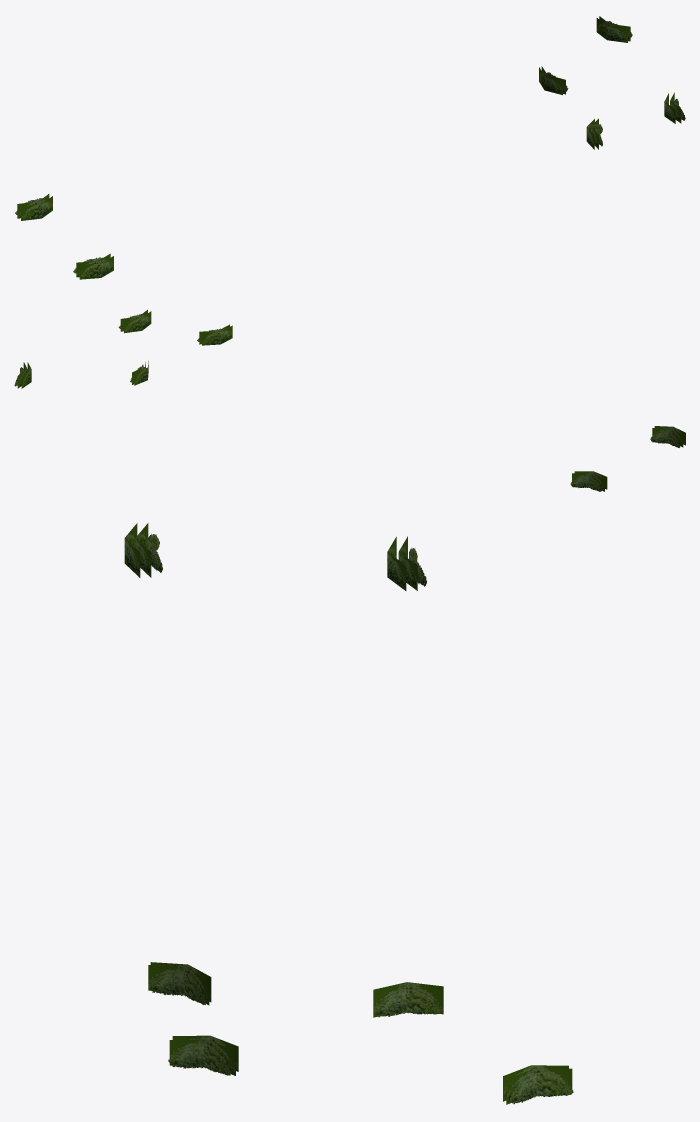
File: gBUSH.obj
3 renders of one model, top to bottom at view 1: azimuth 30°, elevation 25°; view 2: azimuth 150°, elevation 25°; view 3: azimuth 270°, elevation 25°, orthographic. The views are drawn at different scales.
Parts seen in each view (by area): view 1: bush04_2, bush05_2, bush012_2; view 2: bush09_2, bush016_2, bush05_0; view 3: bush017_0, bush016_0, bush012_0, bush09_0.
Part boxes in pixels (left/top/right/bottom): bush04_2: left=79, top=256, right=113, bottom=279; bush05_2: left=21, top=196, right=52, bottom=220; bush012_2: left=596, top=18, right=627, bottom=42; bush09_2: left=202, top=325, right=232, bottom=345; bush016_2: left=124, top=311, right=151, bottom=333; bush05_0: left=570, top=476, right=601, bottom=491; bush017_0: left=374, top=988, right=441, bottom=1017; bush016_0: left=168, top=1043, right=231, bottom=1075; bush012_0: left=510, top=1071, right=573, bottom=1104; bush09_0: left=148, top=971, right=206, bottom=1004.
Bounding box in the file's own units: 1876 × 40 × 638.
